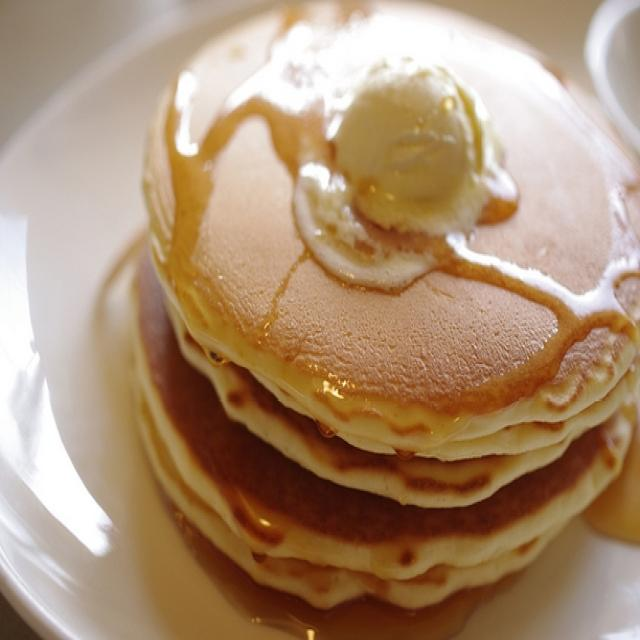蛋糕甜品: (16, 9, 612, 629)
